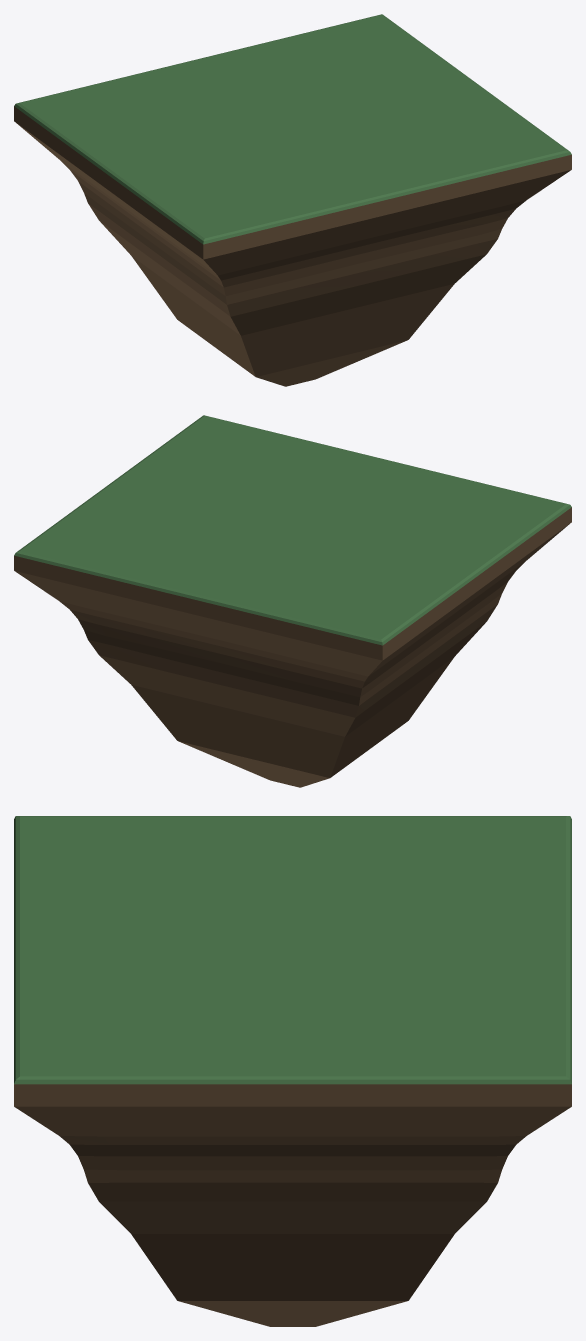
File: SM_Isla.fbx
The picture shows the model from 3 angles, top to bottom: view 1: azimuth 30°, elevation 25°; view 2: azimuth 150°, elevation 25°; view 3: azimuth 270°, elevation 25°; orthographic projection. The views are drawn at different scales.
Parts seen in each view (by area): view 1: SM_Isla; view 2: SM_Isla; view 3: SM_Isla.
Part boxes in pixels (<box>): SM_Isla: <box>14,14,571,386</box>; SM_Isla: <box>14,415,571,787</box>; SM_Isla: <box>14,816,571,1326</box>.
Size of the model in its own units: 571 by 371 by 508.
